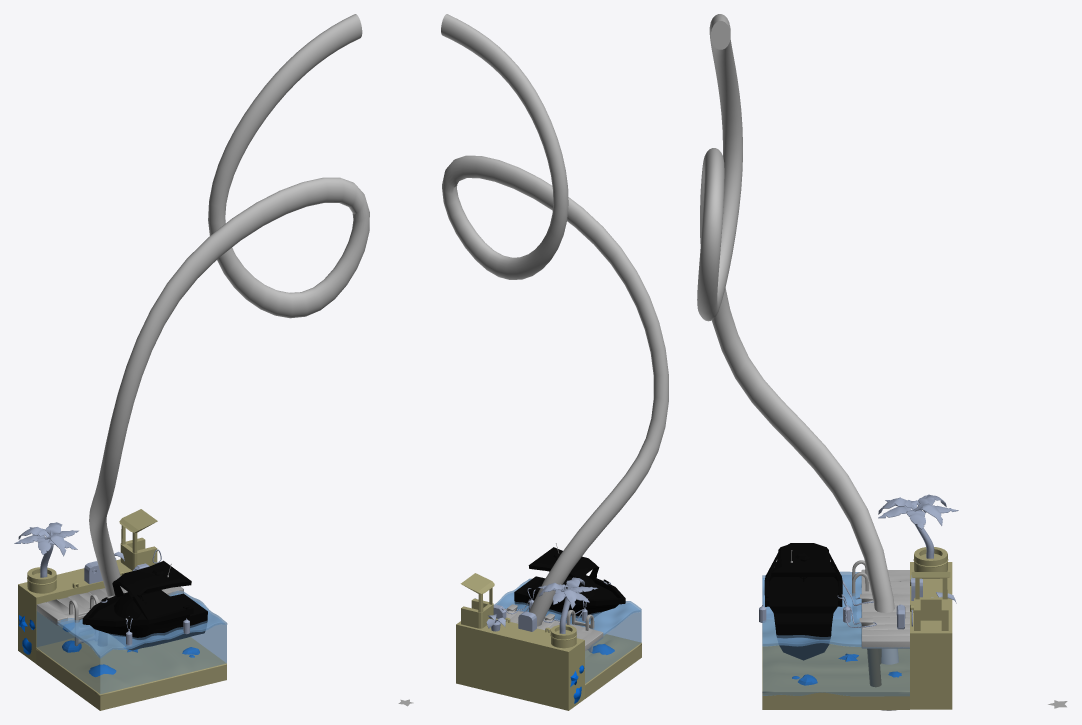
File: frThisShitFinnaWork.fbx
The picture shows the model from 3 angles, left to right: view 1: azimuth 30°, elevation 25°; view 2: azimuth 150°, elevation 25°; view 3: azimuth 270°, elevation 25°; orthographic projection. The views are drawn at different scales.
Visible parts, largest first — view 1: Cord1, pPlane17, boat_Obj:pPlane3, polySurface2, polySurface1, PierBlock, pPlane16, WoodPlanks, PierBooth, TreePlanter; view 2: Cord1, PierBlock, pPlane17, boat_Obj:pPlane3, pPlane16, PierBooth, polySurface2, WoodPlanks, polySurface1, TreePlanter; view 3: Cord1, pPlane17, boat_Obj:pPlane3, polySurface2, PierBlock, WoodPlanks, polySurface1, pPlane16, PierBooth, TreePlanter.
Part boxes in pixels (x1,y1,x2,y2): Cord1: (89,14,369,596); pPlane17: (36,594,226,693); boat_Obj:pPlane3: (82,560,207,650); polySurface2: (36,634,224,694); polySurface1: (36,648,226,710); PierBlock: (18,559,131,663); pPlane16: (57,590,227,658); WoodPlanks: (36,586,183,646); PierBooth: (119,509,157,570); TreePlanter: (27,567,56,593); Cord1: (441,14,668,626); PierBlock: (456,617,584,710); pPlane17: (497,585,641,683); boat_Obj:pPlane3: (514,547,625,622); pPlane16: (495,578,641,635); PierBooth: (460,573,494,628); polySurface2: (585,634,641,683); WoodPlanks: (504,604,603,652); polySurface1: (585,643,641,698); TreePlanter: (550,624,576,648); Cord1: (697,14,898,710); pPlane17: (762,575,909,696); boat_Obj:pPlane3: (764,543,842,660); polySurface2: (762,620,909,690); PierBlock: (910,562,952,709); WoodPlanks: (852,560,909,648); polySurface1: (762,688,909,709); pPlane16: (762,571,861,646); PierBooth: (911,572,950,630); TreePlanter: (913,547,948,571).
Bounding box in the file's own units: 16.42 × 40.3 × 17.57.
